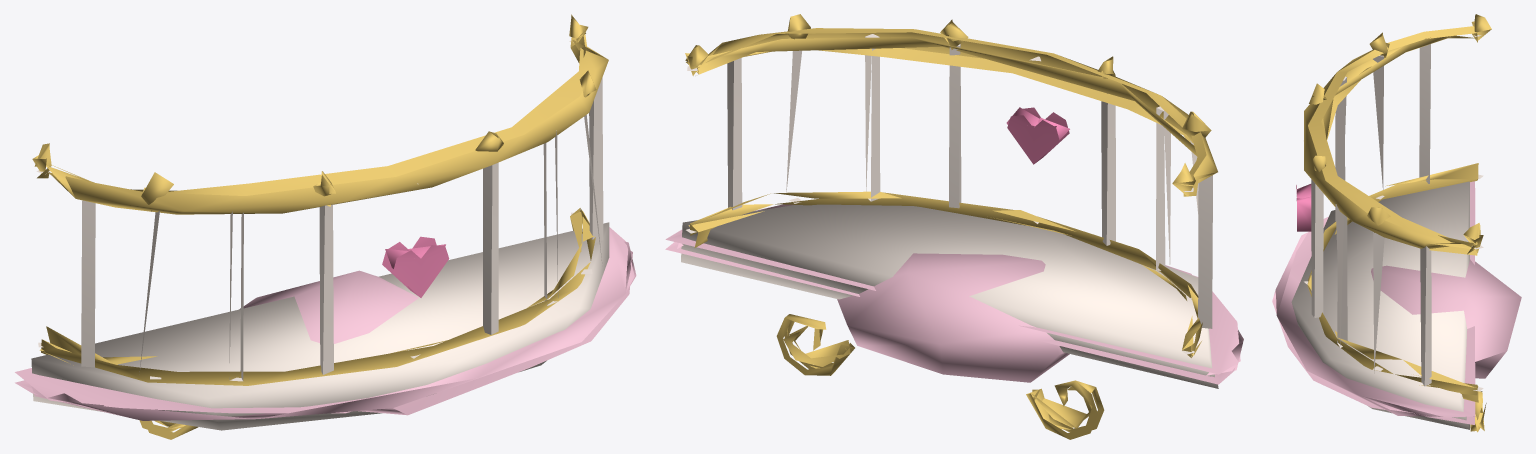
Rendered from lod_balcony_curved.glb.
3 renders of one model, left to right at view 1: azimuth 30°, elevation 25°; view 2: azimuth 150°, elevation 25°; view 3: azimuth 270°, elevation 25°, orthographic. The views are drawn at different scales.
Parts seen in each view (by area): view 1: balcony_curved; view 2: balcony_curved; view 3: balcony_curved.
Boxes of the visible parts, x1,y1,x2,y2 form: balcony_curved: [15, 14, 636, 439]; balcony_curved: [665, 14, 1243, 439]; balcony_curved: [1272, 14, 1521, 432].
Bounding box in the file's own units: 3.15 × 1.65 × 1.4.
